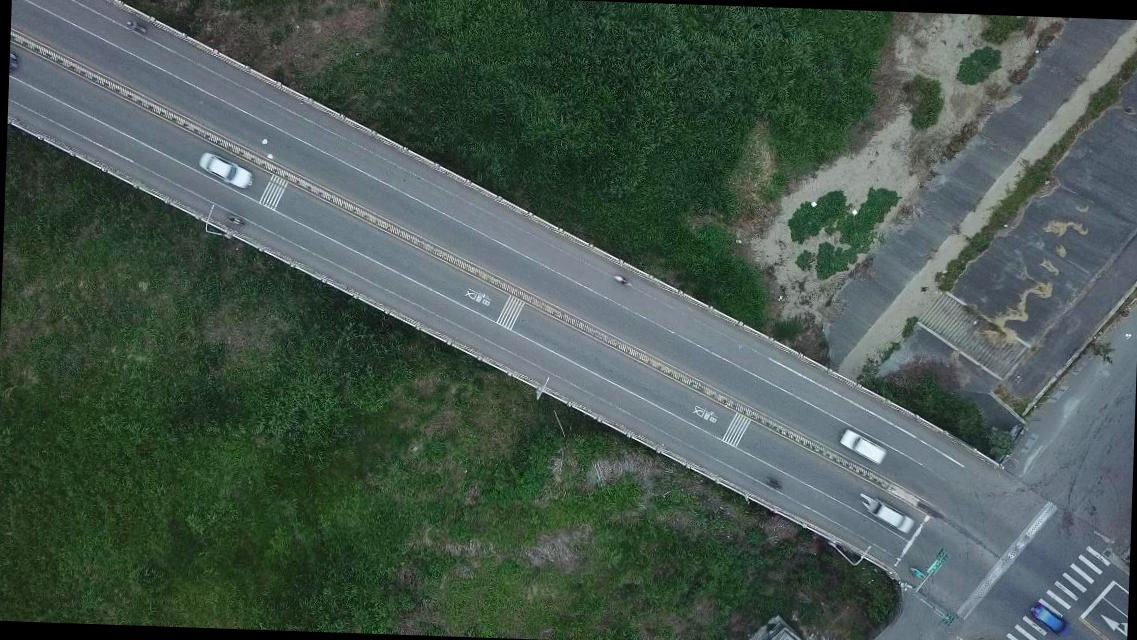vehicle: (196, 151, 254, 189), (836, 426, 888, 464), (867, 498, 914, 534), (1030, 602, 1070, 636)
